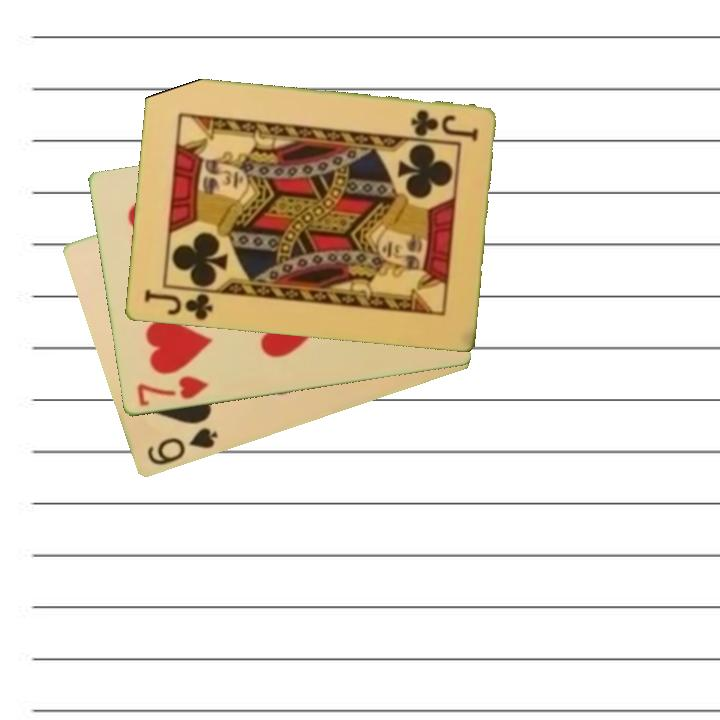6s: (143, 424, 221, 469)
7h: (133, 372, 212, 410)
Jc: (140, 287, 221, 324), (407, 107, 480, 143)
